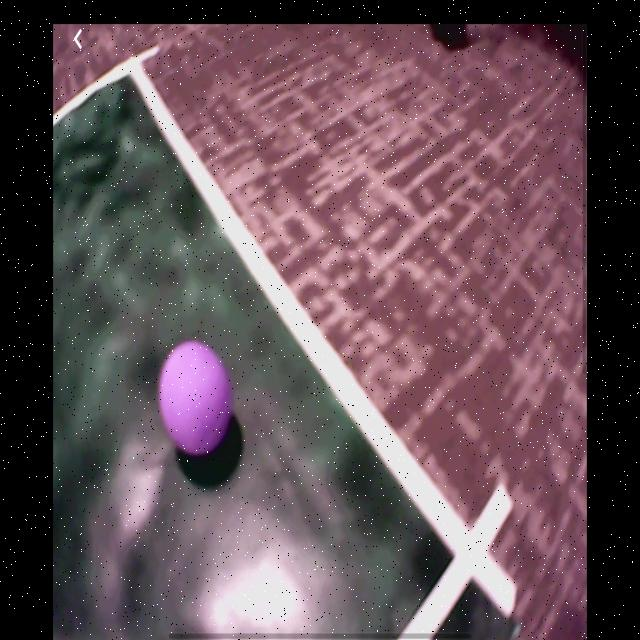ball: (161, 341, 231, 454)
